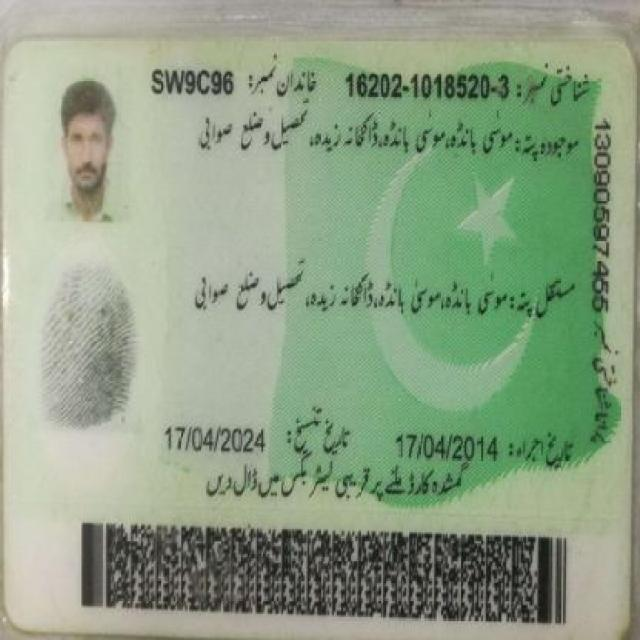Back: (12, 42, 625, 629)
